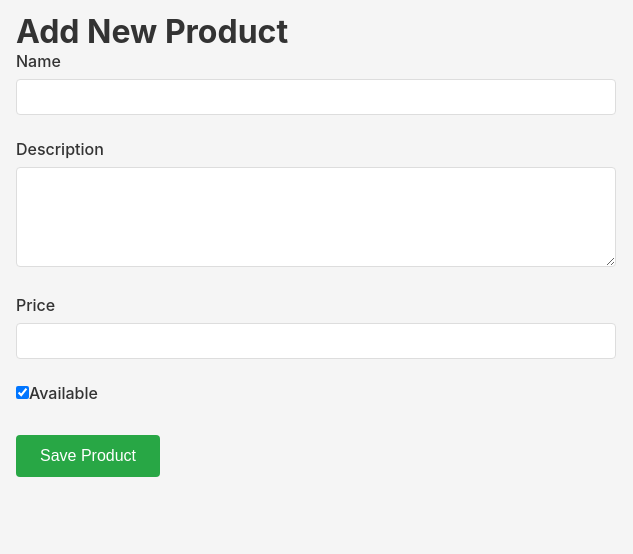
ProductForm › shows error messages for empty fields
Try to submit empty form
Click the button "Save Product" at {"x": 88, "y": 456}, box top-left (16, 435), bottom-right (160, 477)
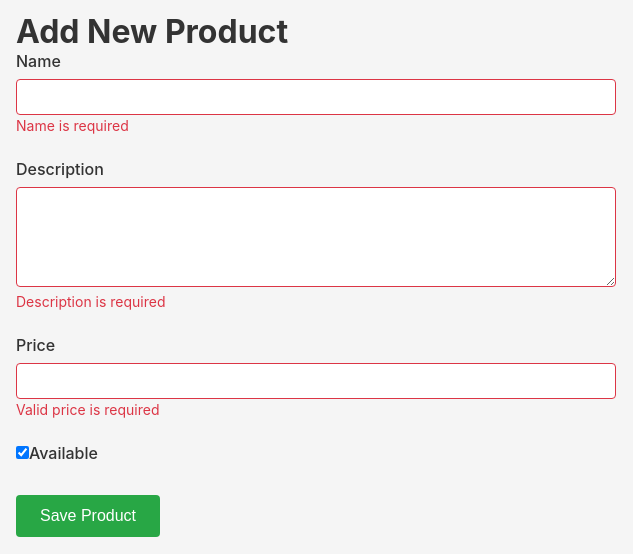
Check: the text "Name is required" is shown, box top-left (16, 117), bottom-right (129, 134)
